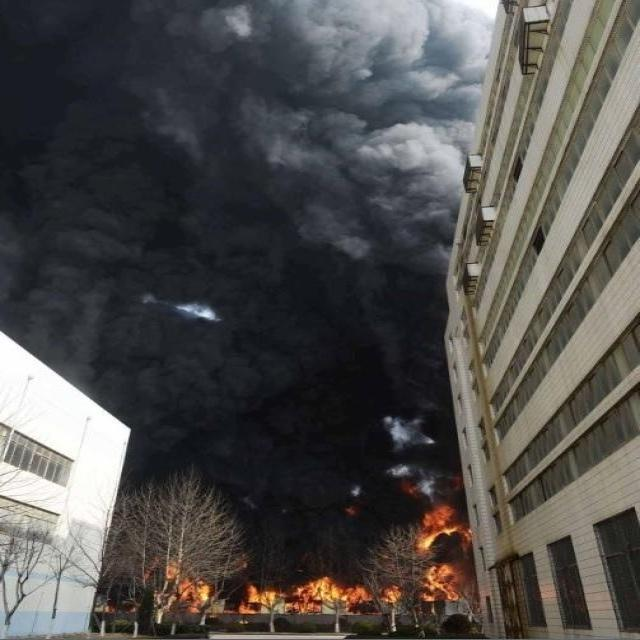Fire: (231, 561, 462, 614), (155, 558, 210, 613), (418, 502, 473, 552)
Smoke: (1, 1, 495, 587)
